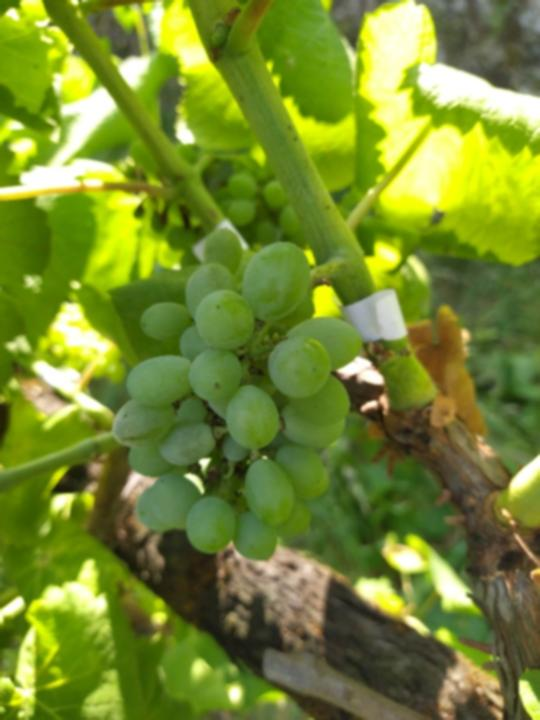grape: (109, 230, 368, 565)
